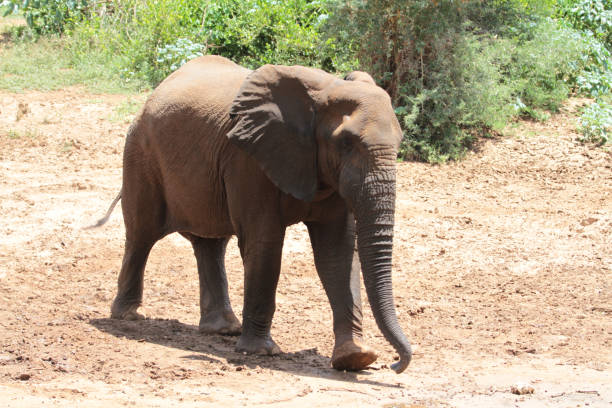africanelephant: (288, 75, 418, 263)
